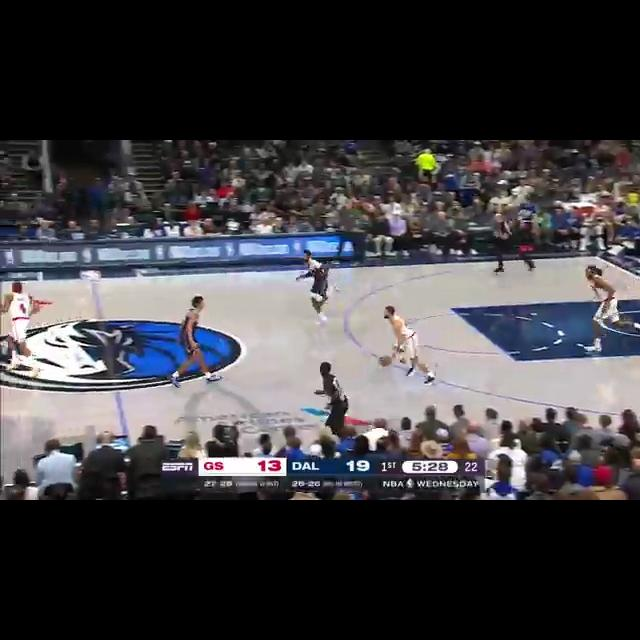Ball: (374, 354, 396, 372)
Team-1-Player: (169, 290, 223, 388), (288, 245, 342, 327)
Team-2-Player: (578, 261, 640, 355), (376, 303, 439, 389), (0, 277, 44, 383)
